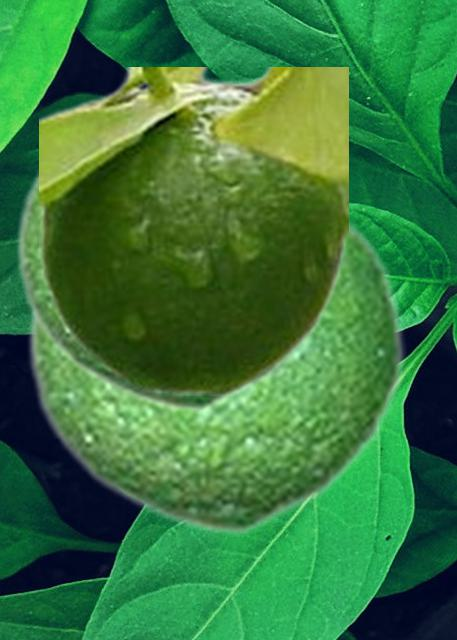dalandan: (24, 212, 405, 535), (39, 67, 347, 394), (13, 156, 339, 412)
